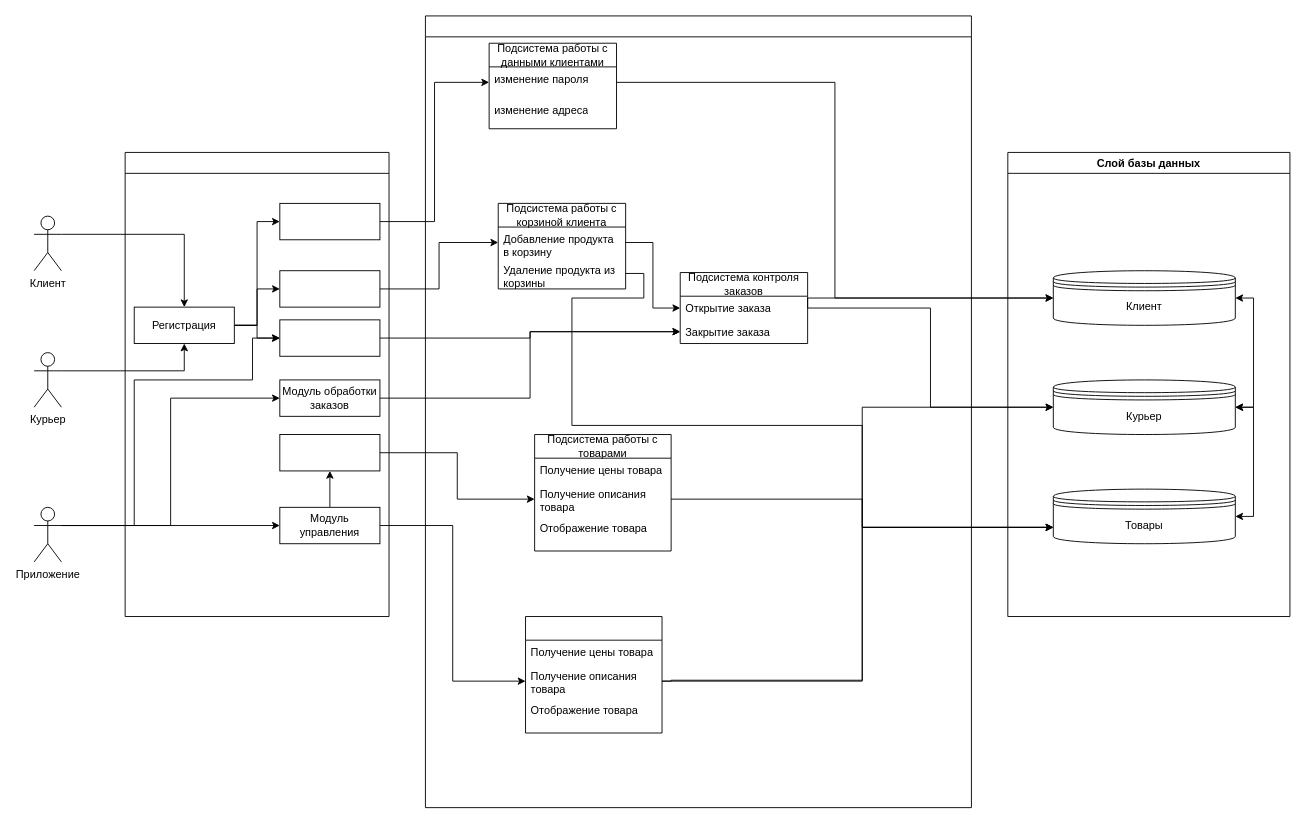
This 1306x824 diagram has some shape labels left out. Here are the shapes that lost their labels. From the top down, the box of each, then its label:
(279, 202, 380, 240): Модуль пользователя
(279, 270, 380, 307): Модуль "Корзина"
(279, 319, 380, 356): Модуль курьера
(124, 152, 389, 617): пользовательский слой
(425, 15, 971, 808): системный слой
(279, 434, 380, 471): Модуль отображения товаров
(525, 616, 662, 733): Подсистема управления
